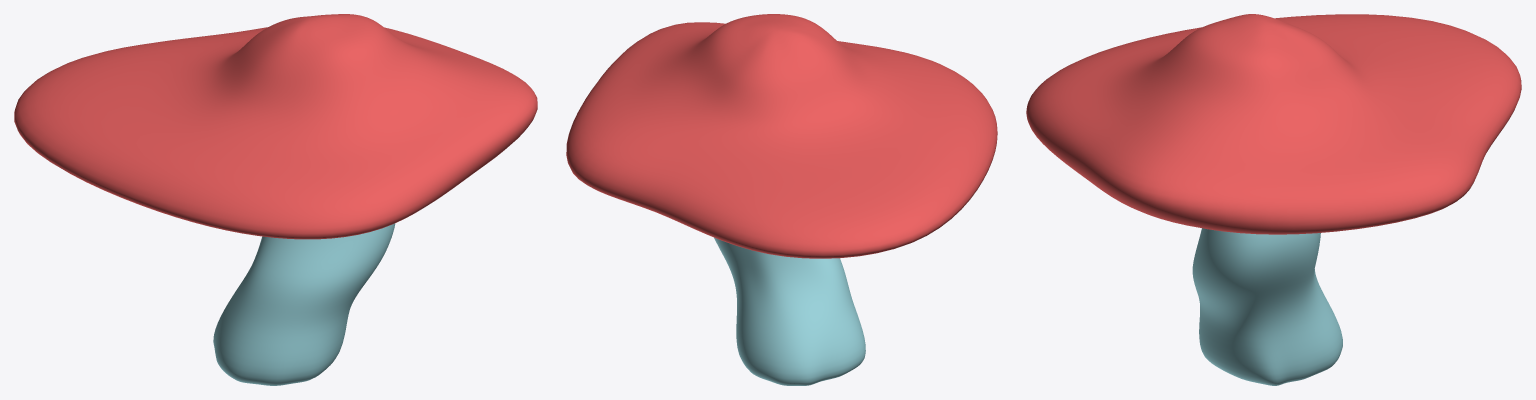
Rendered from RedShroom.fbx.
3 renders of one model, left to right at view 1: azimuth 30°, elevation 25°; view 2: azimuth 150°, elevation 25°; view 3: azimuth 270°, elevation 25°, orthographic. The views are drawn at different scales.
Parts seen in each view (by area): view 1: pSphere3; view 2: pSphere3; view 3: pSphere3.
Part boxes in pixels (left/top/right/bottom): pSphere3: left=14, top=14, right=537, bottom=385; pSphere3: left=566, top=14, right=997, bottom=385; pSphere3: left=1026, top=14, right=1521, bottom=385.
Size of the model in its own units: 458 by 363 by 457.
